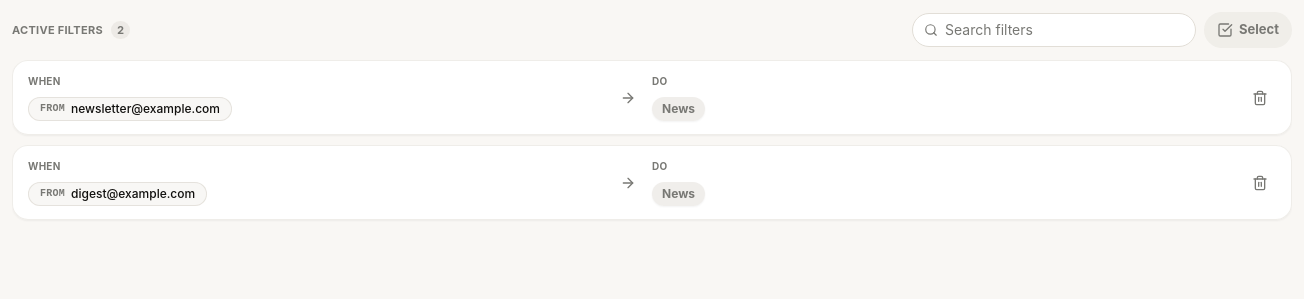
Test: the bulk bar › it counts what is selected, in a landmark a screen reader can jump to
Click the button with aria-label "Enter select mode": (1248, 30) 1204,12 -> 1292,48
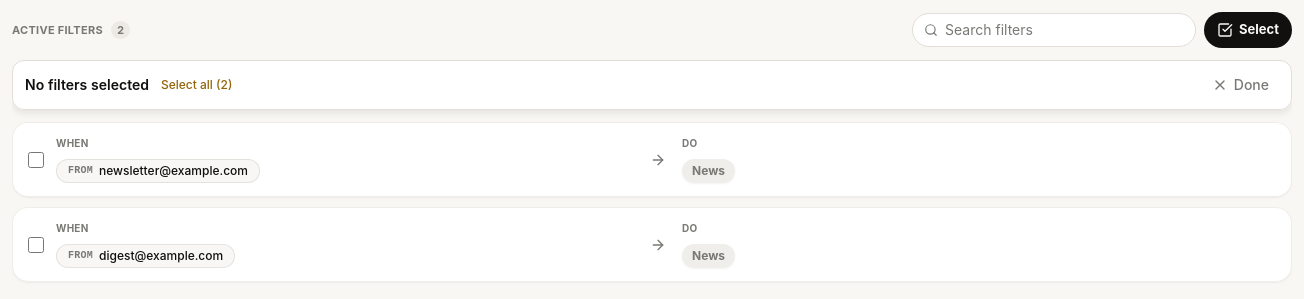
Expected: the text "No filters selected" is shown, 25,75 -> 149,95
Click the checkbox named "Select filter" in the row of "newsletter@example.com": (36, 160) 28,152 -> 44,168
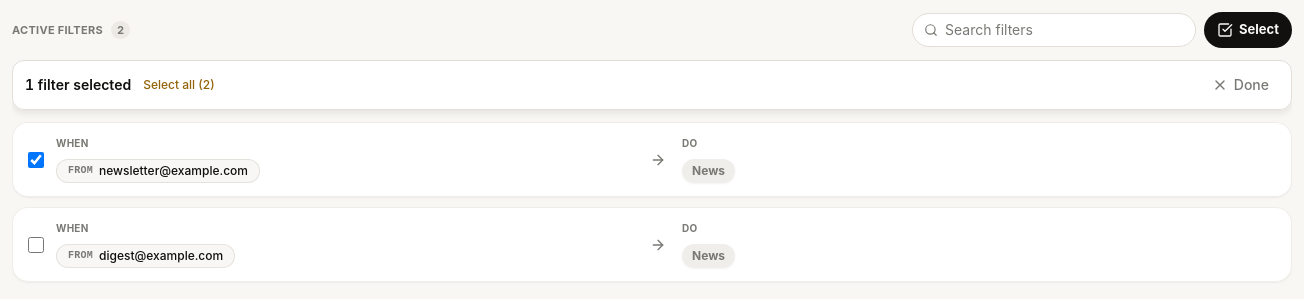
Expected: the text "1 filter selected" is shown, 25,75 -> 131,95
Click the checkbox named "Select filter" in the row of "digest@example.com": (36, 244) 28,236 -> 44,252
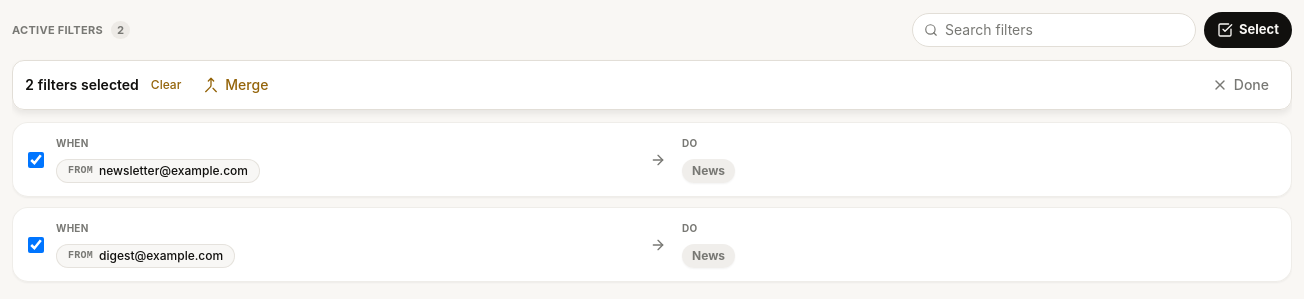
Expected: the text "2 filters selected" is shown, 25,75 -> 139,95
